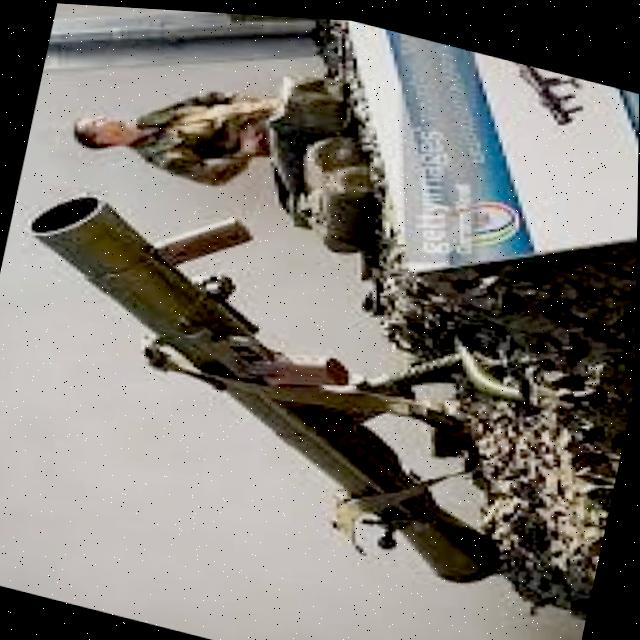rocket: (0, 93, 571, 640)
